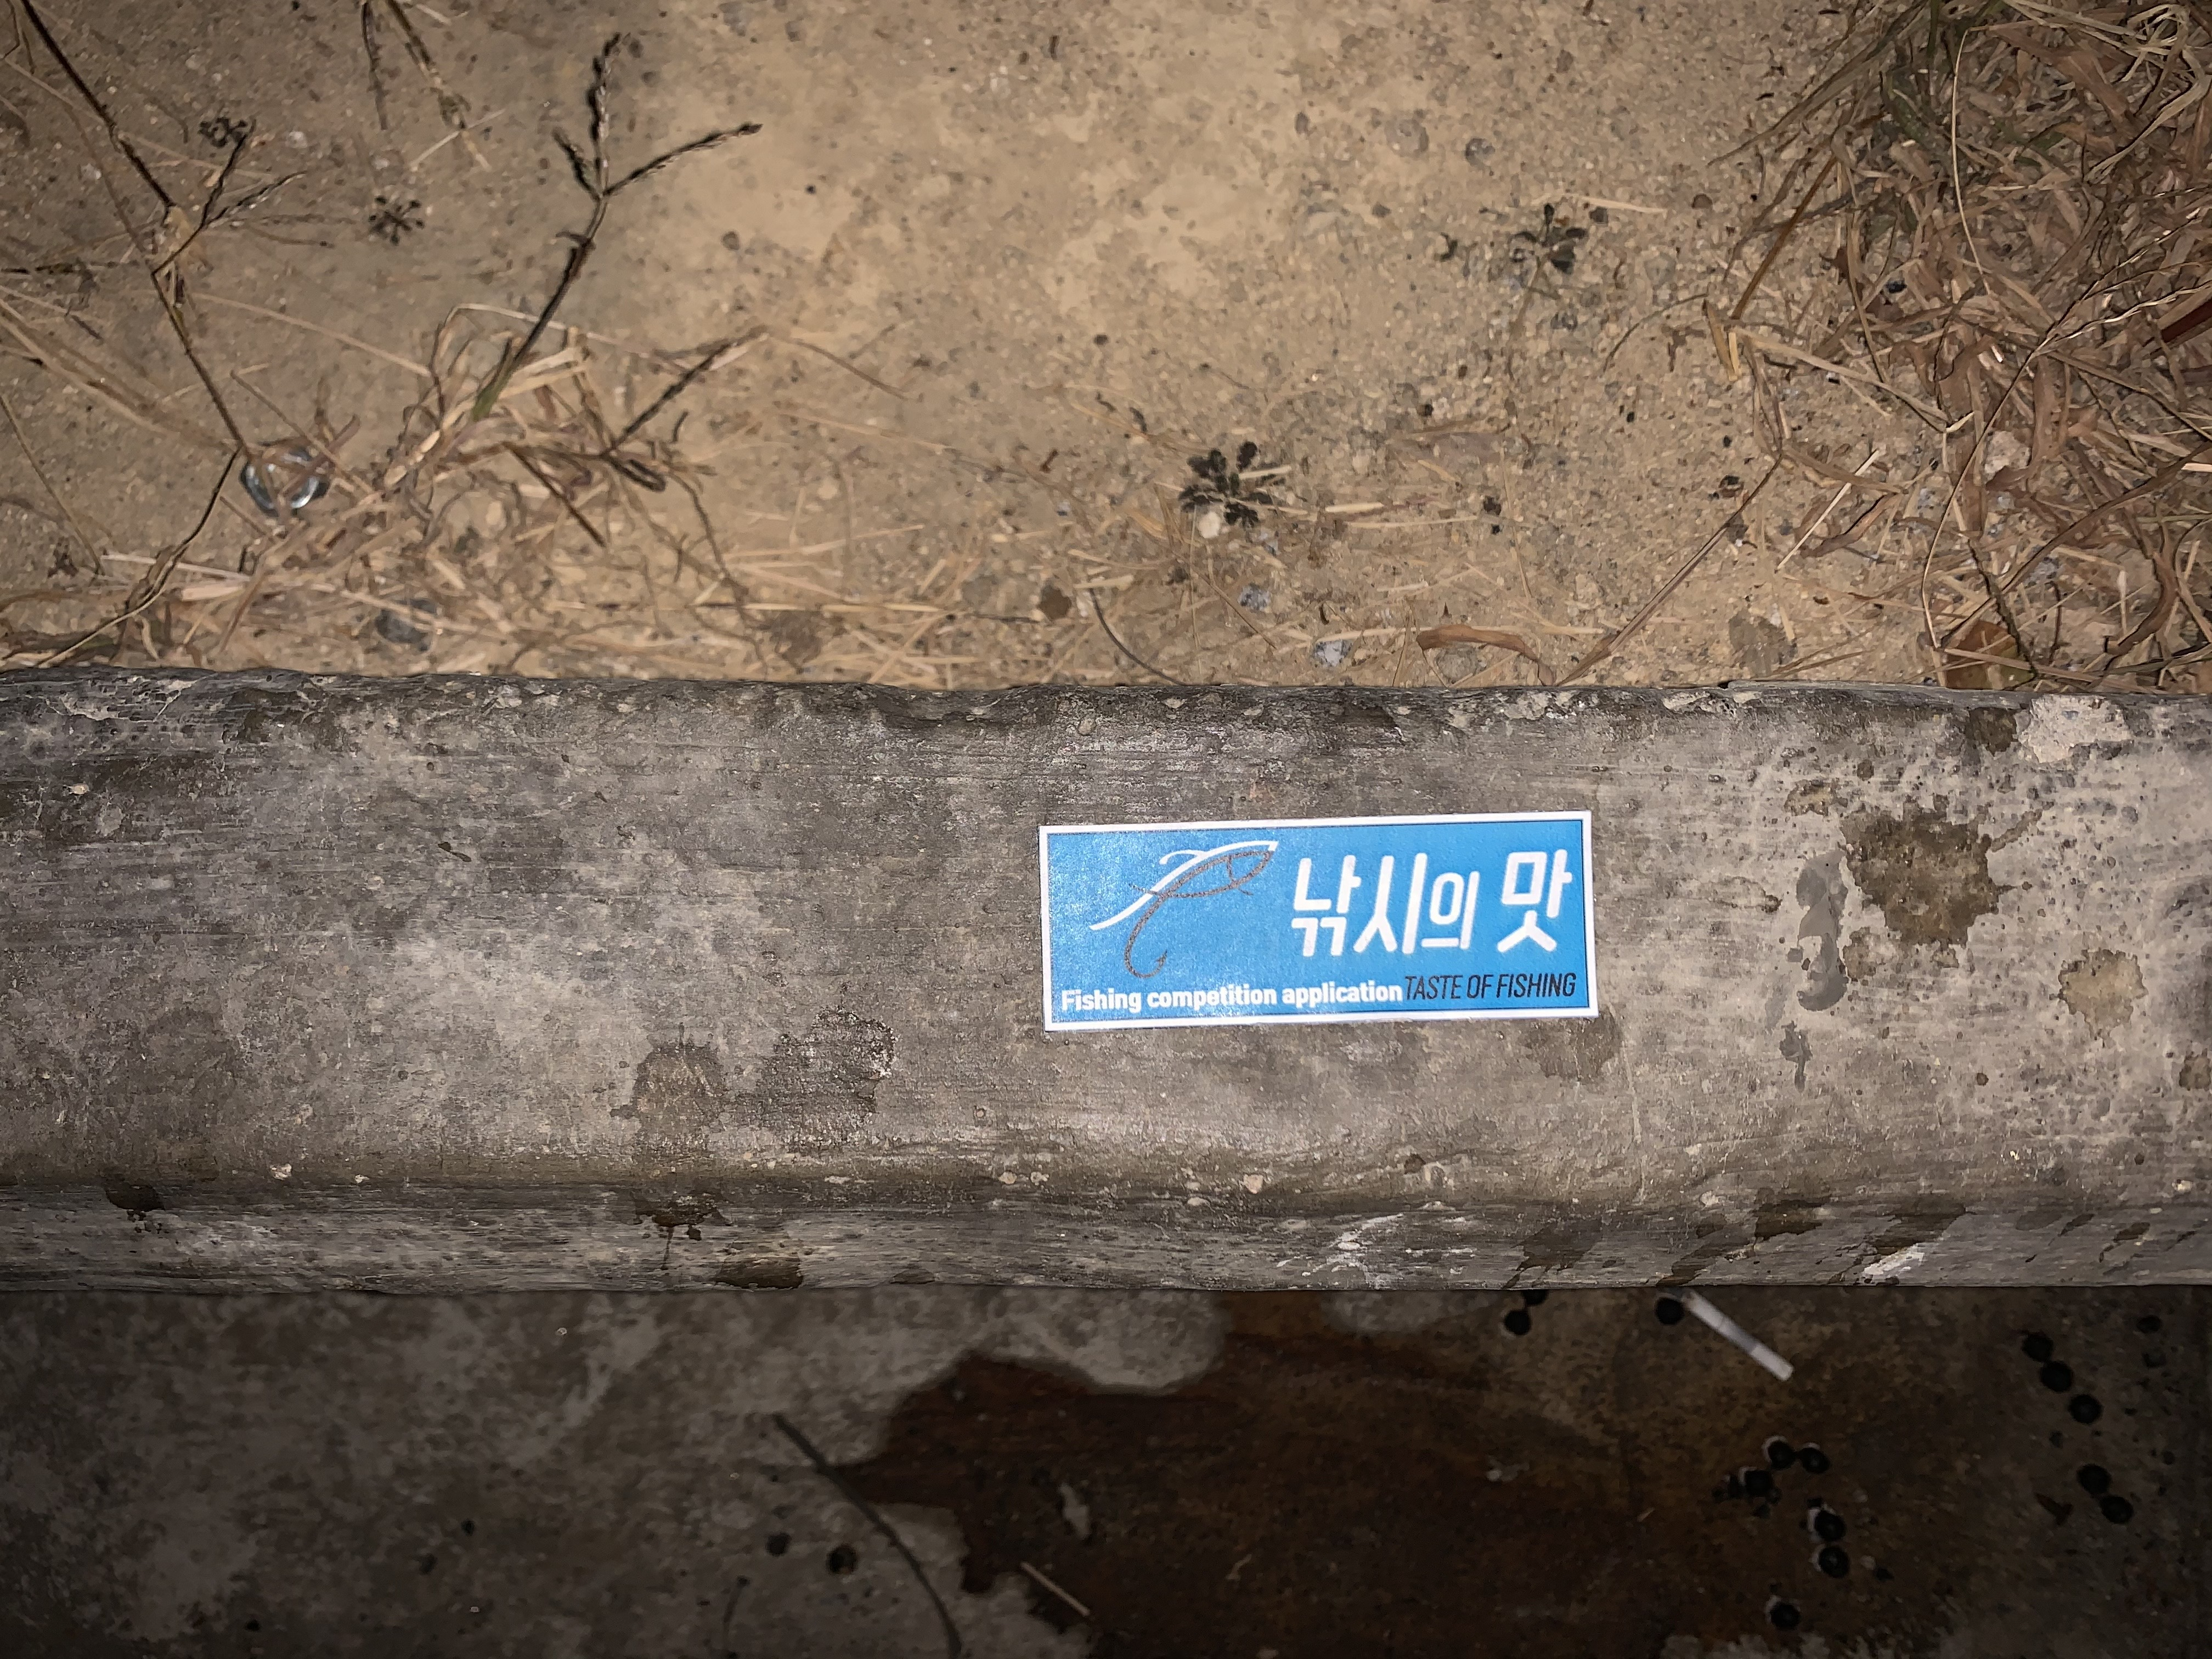tag: (1040, 812, 1602, 1032)
